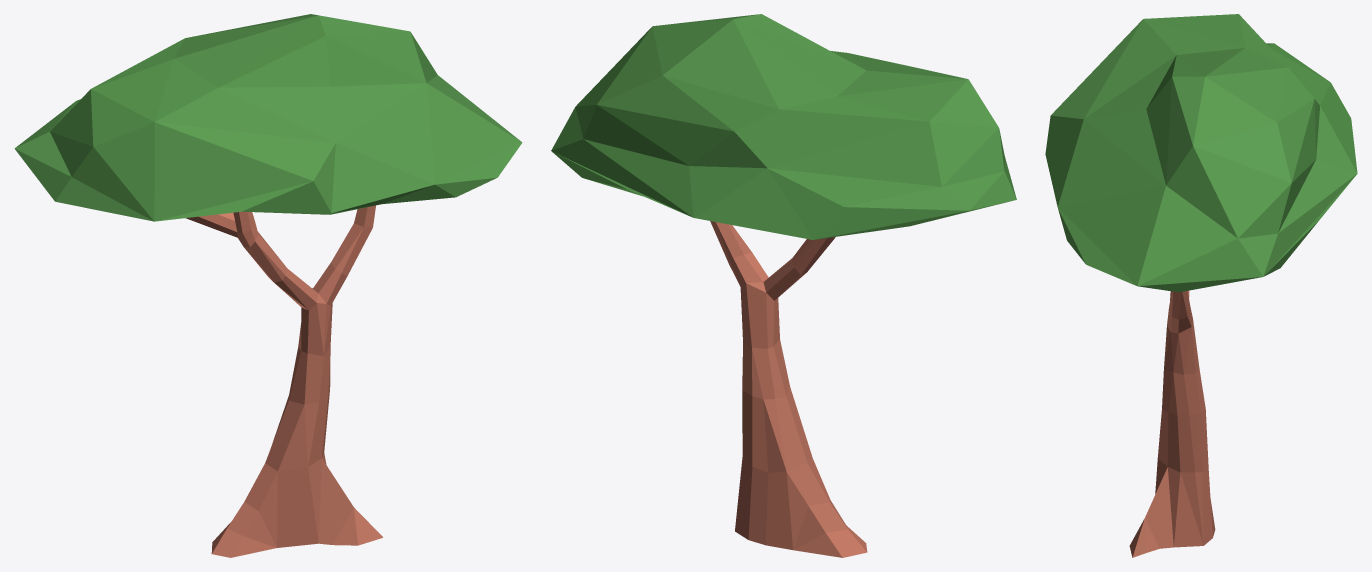
Rendered from Tree_C.fbx.
The picture shows the model from 3 angles, left to right: view 1: azimuth 30°, elevation 25°; view 2: azimuth 150°, elevation 25°; view 3: azimuth 270°, elevation 25°; orthographic projection. The views are drawn at different scales.
Parts seen in each view (by area): view 1: Tree_C_02.001; view 2: Tree_C_02.001; view 3: Tree_C_02.001.
Boxes of the visible parts, box(x1,y1,x2,y2) form: Tree_C_02.001: box(14, 14, 522, 557); Tree_C_02.001: box(551, 14, 1016, 557); Tree_C_02.001: box(1045, 14, 1357, 557).
Size of the model in its own units: 597 by 652 by 392.
